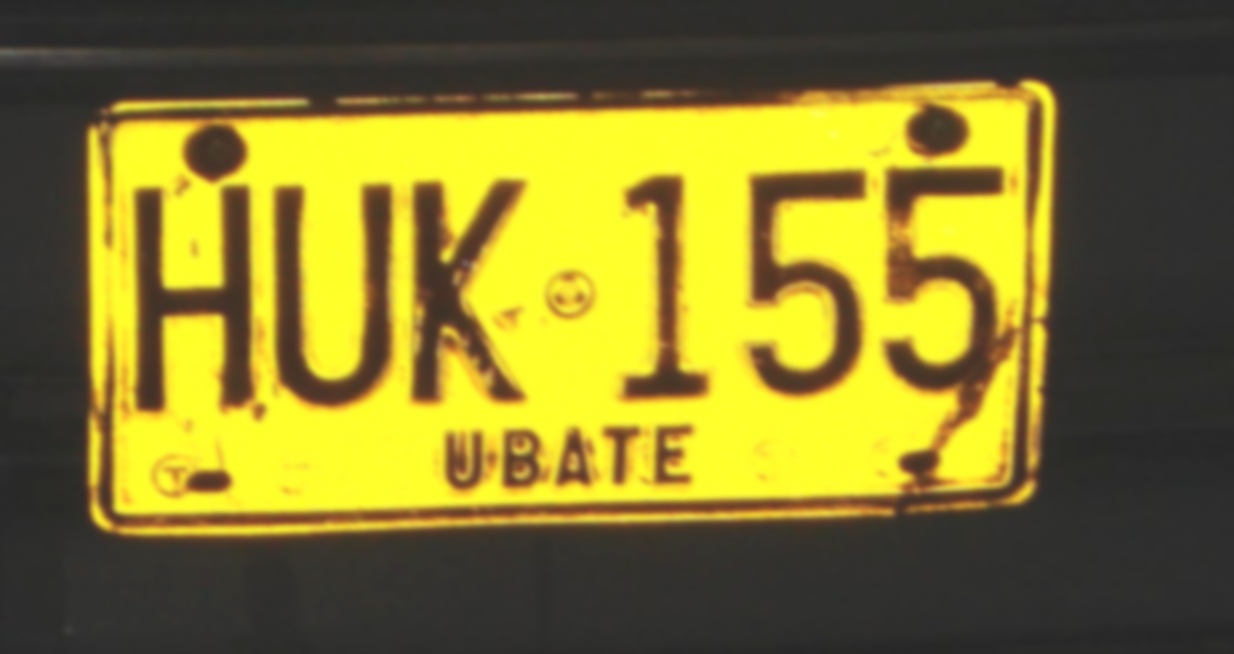placas: (72, 63, 1069, 542)
